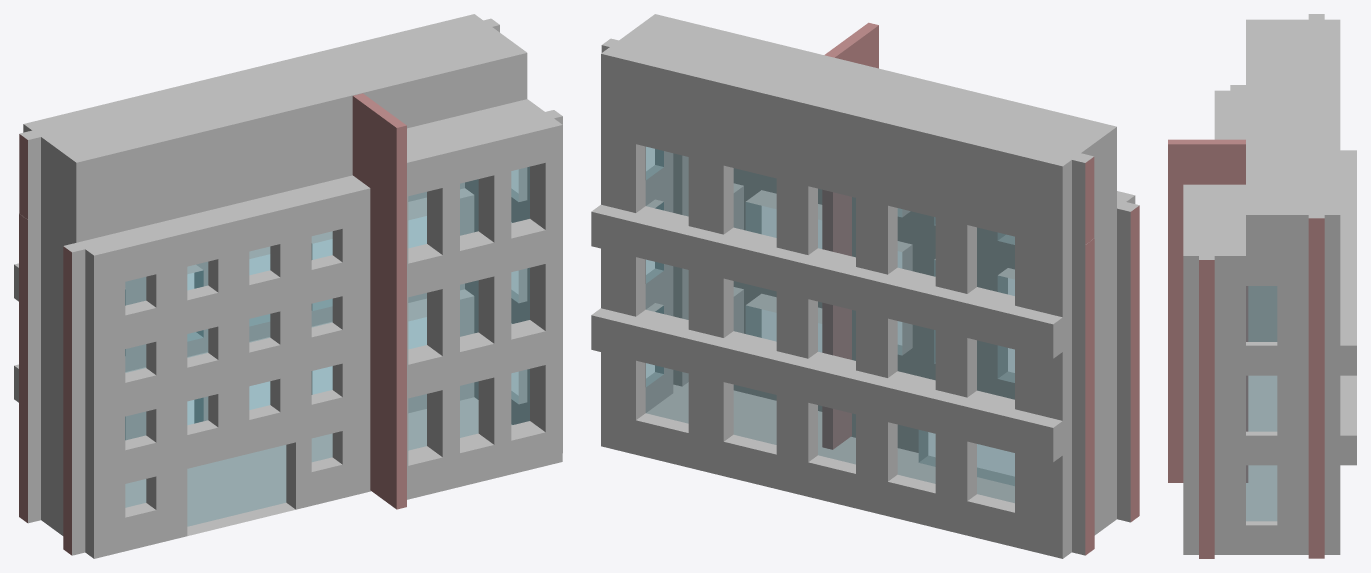
3 views of the same model, side by side, from view 1: azimuth 30°, elevation 25°; view 2: azimuth 150°, elevation 25°; view 3: azimuth 270°, elevation 25° (orthographic). The views are drawn at different scales.
Parts seen in each view (by area): view 1: 立方体, 立方体_1; view 2: 立方体, 立方体_1; view 3: 立方体, 立方体_1.
Boxes of the visible parts, x1,y1,x2,y2 form: 立方体: [14, 14, 562, 558]; 立方体_1: [352, 93, 406, 509]; 立方体: [591, 14, 1139, 558]; 立方体_1: [822, 22, 878, 449]; 立方体: [1183, 14, 1356, 558]; 立方体_1: [1168, 139, 1248, 482].
Bounding box in the file's own units: 543 × 421 × 211.
